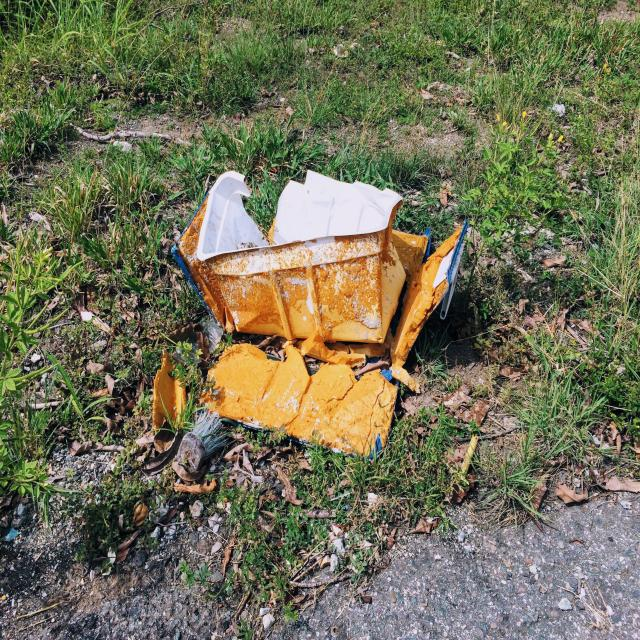litter: (149, 164, 471, 468)
